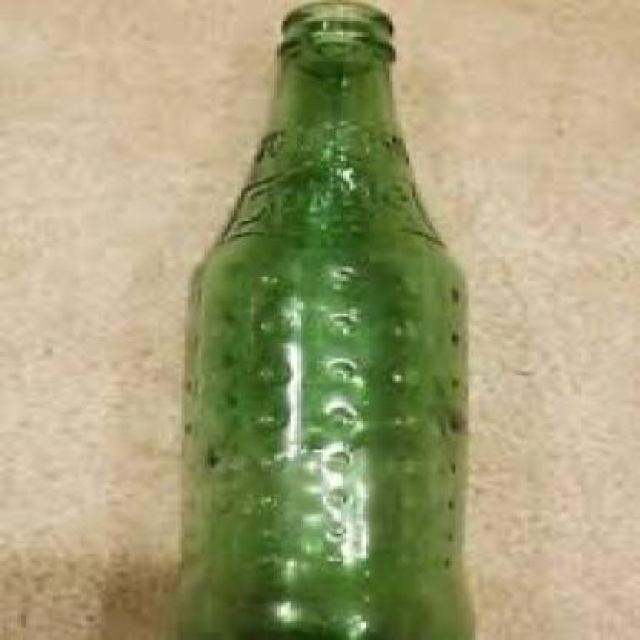kaca: (180, 0, 466, 638)
